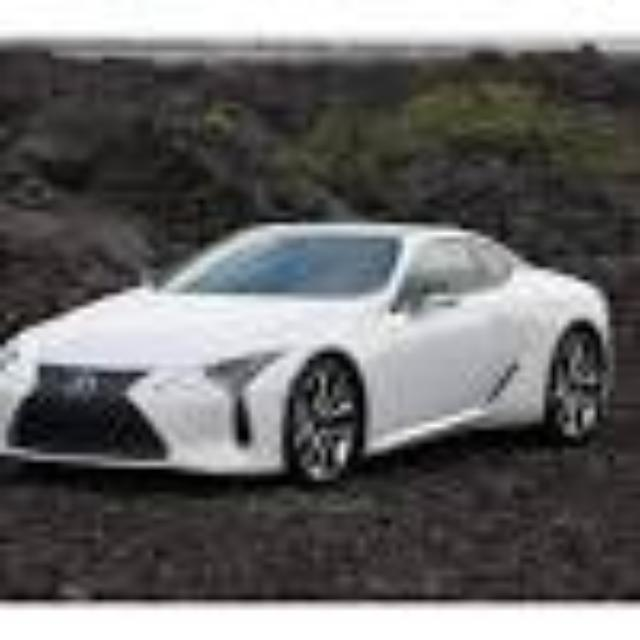lexus: (0, 218, 614, 486)
